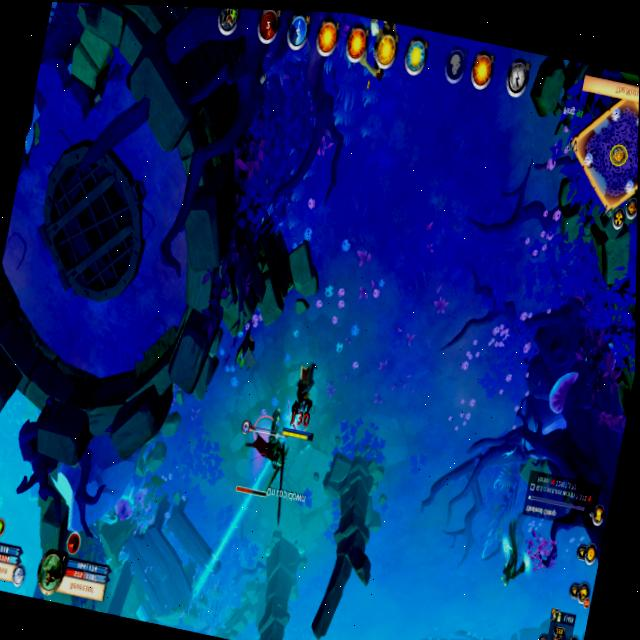ore: (227, 392, 295, 506), (490, 512, 537, 597), (0, 419, 17, 509)
red: (276, 351, 328, 450)
